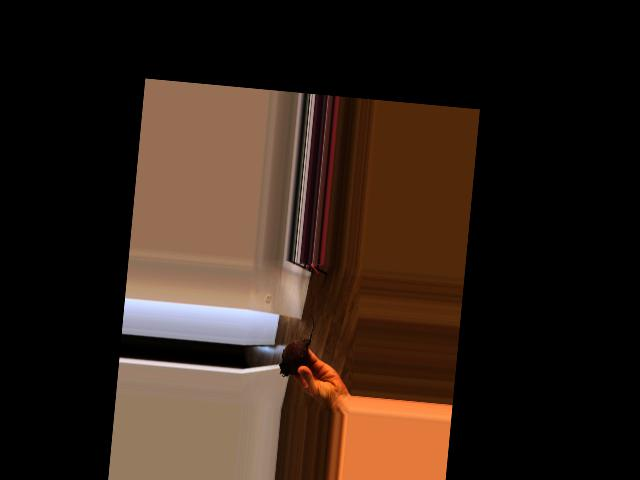beet: (278, 310, 315, 378)
